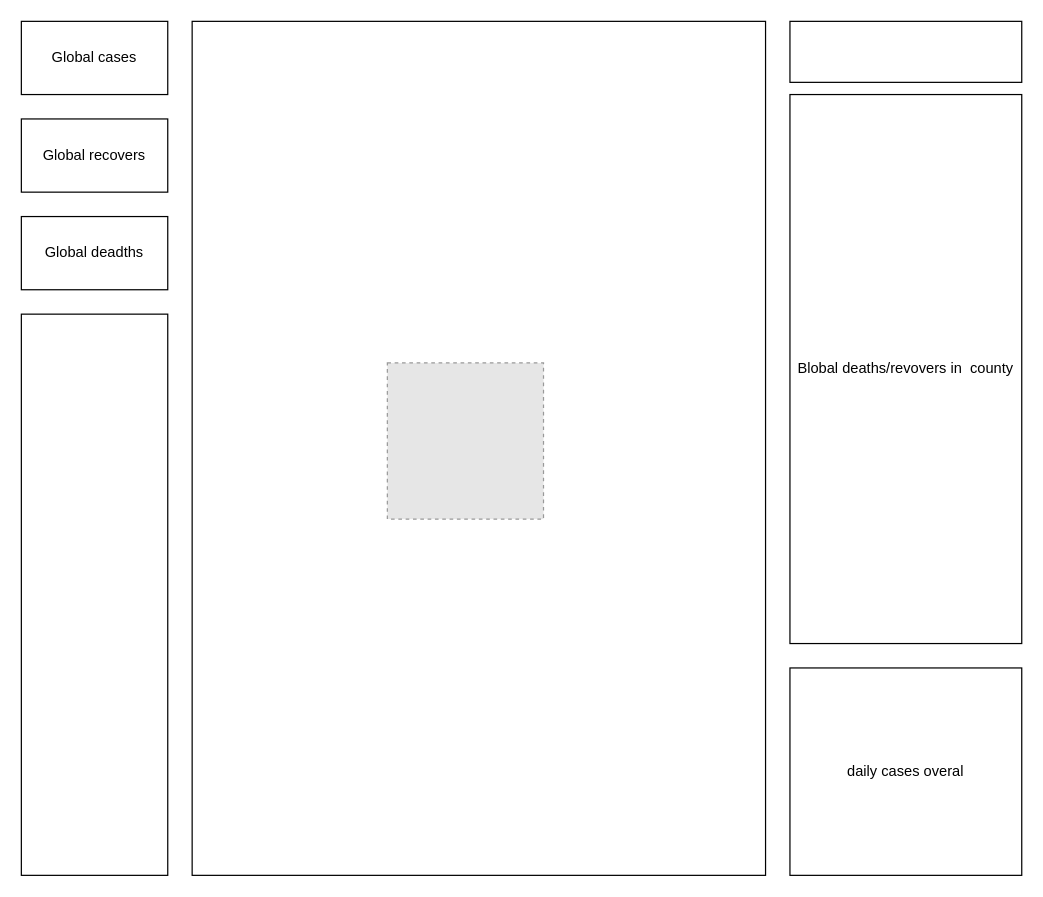
The diagram is 1043 pixels wide and 897 high, and some of its shapes have lost their labels. Grey dashed boxes stand in for pictures. Each missing label, with the box of its shape:
Cases by Country: (20, 313, 168, 875)
Dropdown menu with countries: (789, 20, 1022, 82)
